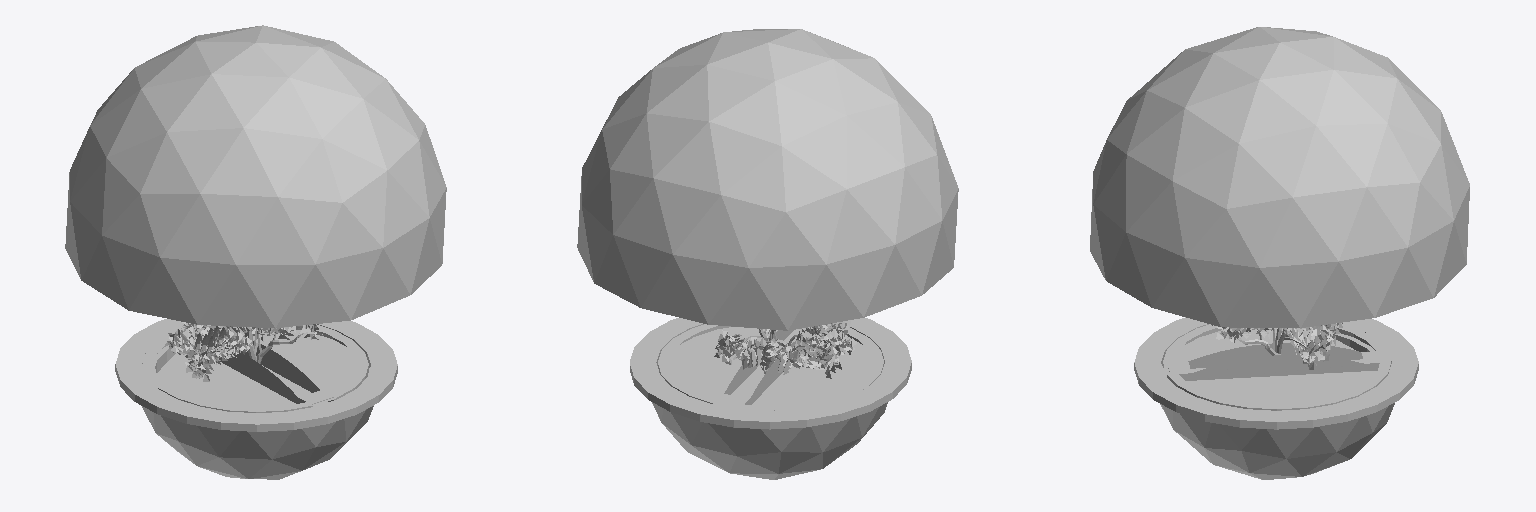
Rendered from vods.obj.
3 renders of one model, left to right at view 1: azimuth 30°, elevation 25°; view 2: azimuth 150°, elevation 25°; view 3: azimuth 270°, elevation 25°, orthographic.
Visible parts, largest first — view 1: Mesh5 Component_4_1 Group5 Model, Mesh2 Group2 Model, Mesh3 Group3 Model, Mesh1 Group1 Model; view 2: Mesh5 Component_4_1 Group5 Model, Mesh2 Group2 Model, Mesh3 Group3 Model, Mesh1 Group1 Model; view 3: Mesh5 Component_4_1 Group5 Model, Mesh2 Group2 Model, Mesh3 Group3 Model, Mesh1 Group1 Model.
Part boxes in pixels (x1,y1,x2,y2): Mesh5 Component_4_1 Group5 Model: (65, 25, 446, 327); Mesh2 Group2 Model: (117, 319, 397, 431); Mesh3 Group3 Model: (142, 406, 373, 479); Mesh1 Group1 Model: (115, 319, 397, 431); Mesh5 Component_4_1 Group5 Model: (577, 29, 958, 330); Mesh2 Group2 Model: (630, 318, 911, 428); Mesh3 Group3 Model: (652, 402, 887, 479); Mesh1 Group1 Model: (630, 318, 911, 429); Mesh5 Component_4_1 Group5 Model: (1090, 27, 1469, 327); Mesh2 Group2 Model: (1134, 318, 1418, 429); Mesh3 Group3 Model: (1160, 403, 1394, 479); Mesh1 Group1 Model: (1134, 317, 1418, 429).
Size of the model in its own units: 25379 by 31516 by 25452.